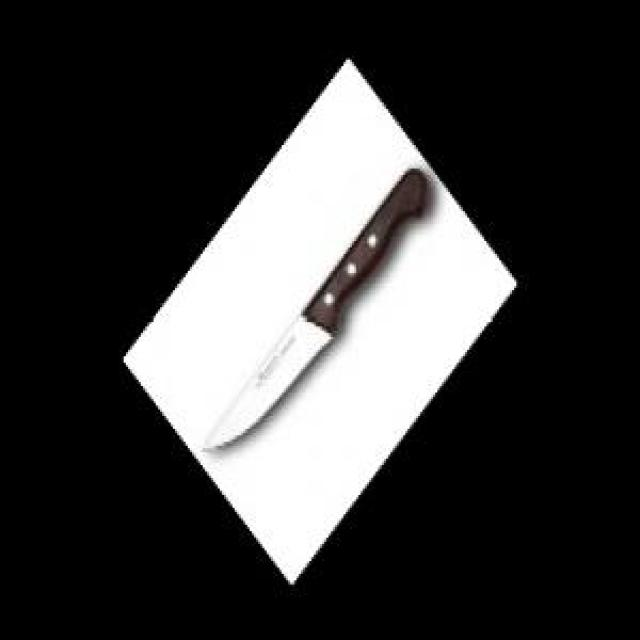knife: (201, 162, 434, 455)
